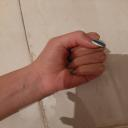Fist: (39, 30, 109, 94)
